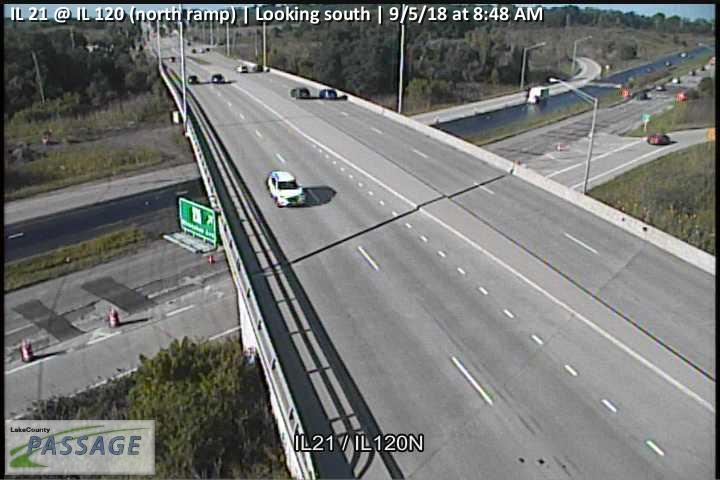SUV: (266, 171, 306, 208), (289, 86, 310, 100)
Sedan: (318, 89, 337, 100)
